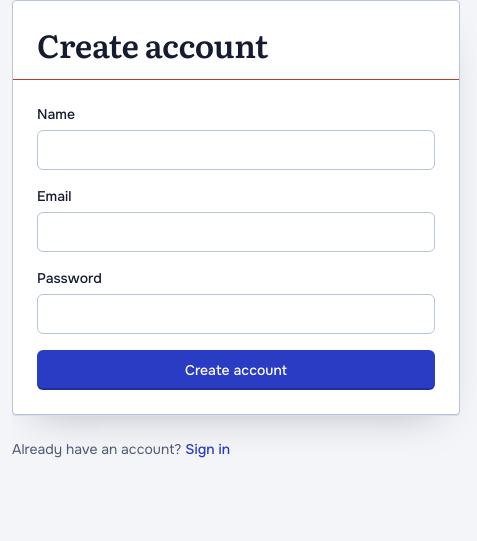
Test case: RegisterForm › rejects a password shorter than the backend minimum
The image size is (477, 541).
Type "short" into the password field labelled "Password" at (236, 314), box [37,294,435,334]
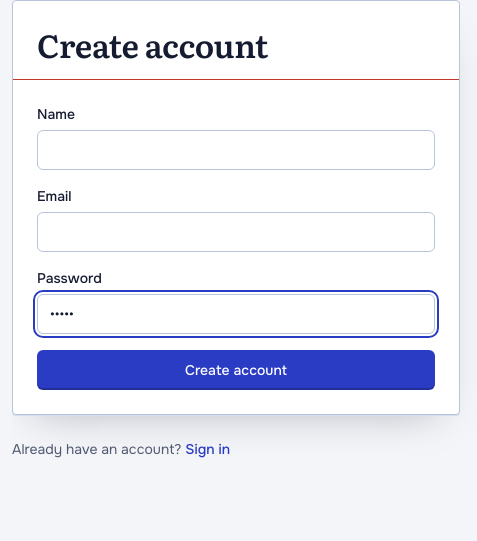
Click the button "Create account" at (236, 370), box [37,350,435,390]
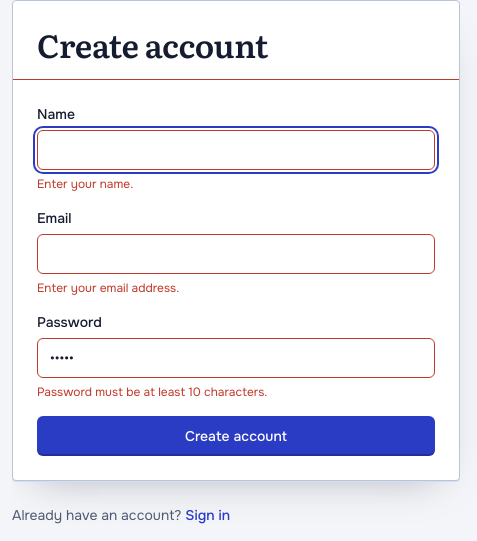
expect the text "Password must be at least 10 characters." is shown: met, box [37,384,267,400]
